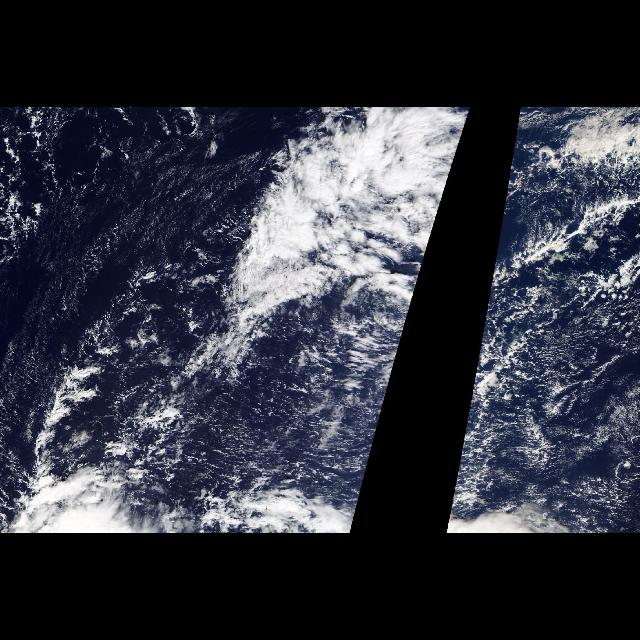Sugar: (0, 111, 242, 327), (451, 281, 639, 504), (220, 315, 410, 503)
